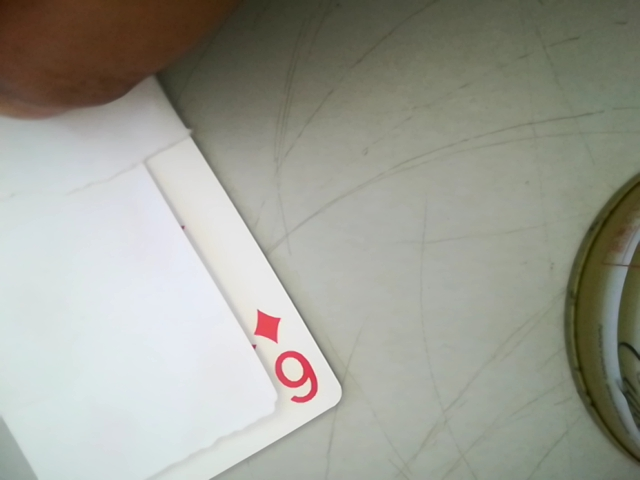fk 6: (237, 302, 327, 416)
